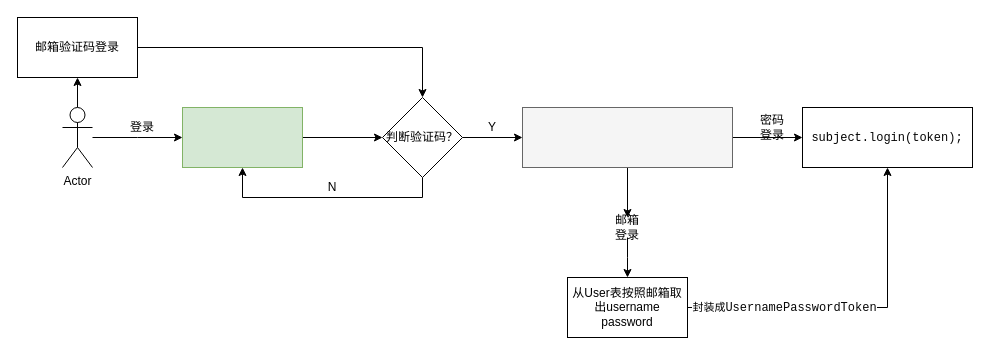
Image size: 990x355. Some labels were removed from this diagram. Here are the shapes that lost their labels. From the top down, the centre of each, then its label:
point (242, 137): 浏览器登录输入 用户名 密码 验证码
point (627, 137): 判断是邮箱登录还是密码登录
